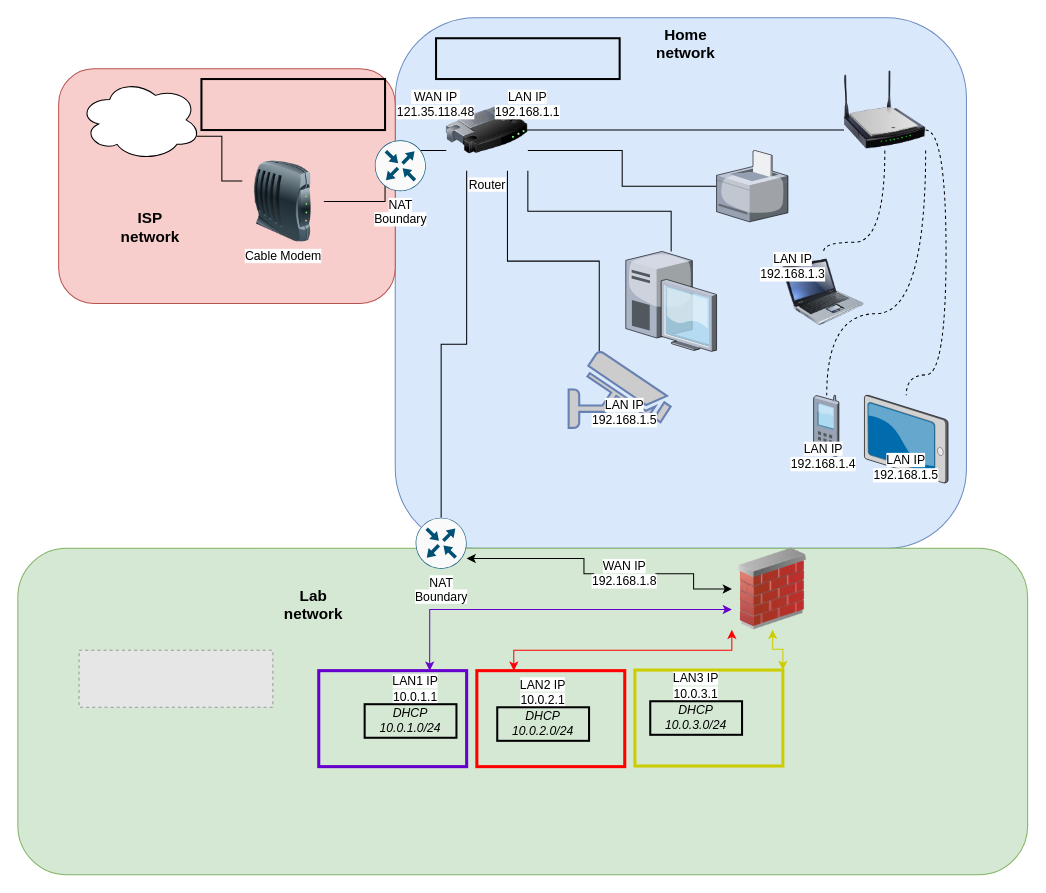
Some shapes in this 1046 by 893 pixel diagram are drawn without their labels. Grey dashed boxes stand in for pictures. The shapes that lost their labels are listed below. From the top down, each one's centre as x and y in pixels, then its label:
the point at 527,58: DHCP 192.168.1.0/24
the point at 139,119: ISP WAN
the point at 293,104: DHCP (scope determined by ISP) example: 121.35.118.0/24
the point at 884,109: WAP
the point at 751,185: LAN IP 192.168.1.7
the point at 670,301: LAN IP 192.168.1.6
